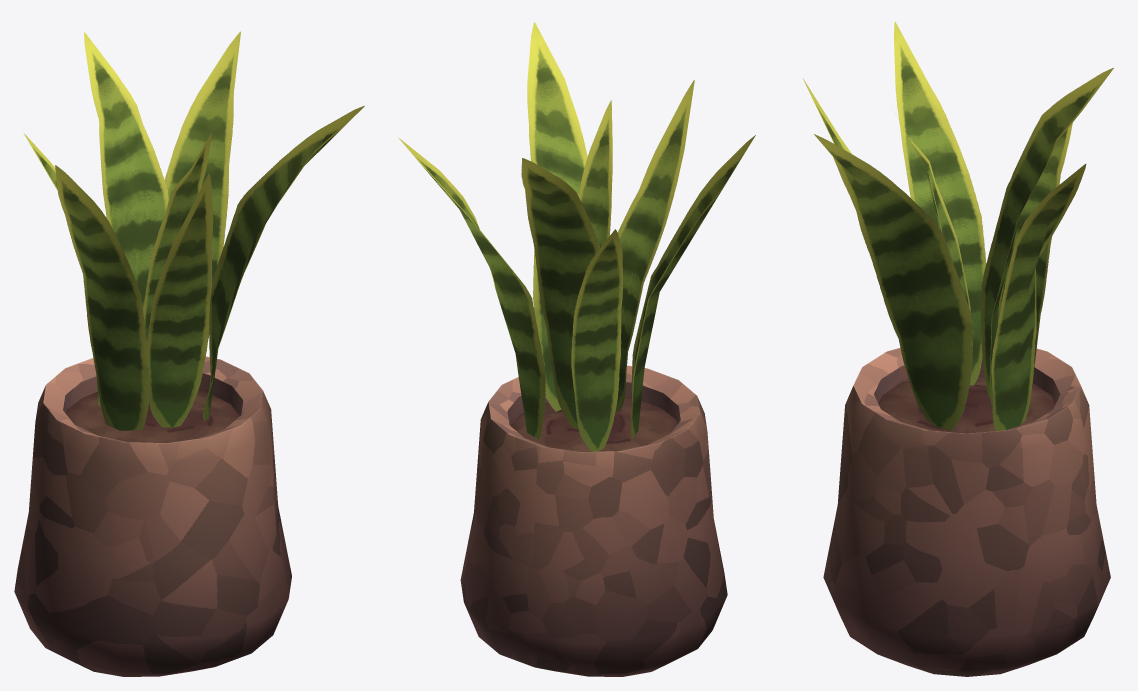
Rendered from MDL_SnakePlant.fbx.
The picture shows the model from 3 angles, left to right: view 1: azimuth 30°, elevation 25°; view 2: azimuth 150°, elevation 25°; view 3: azimuth 270°, elevation 25°; orthographic projection. The views are drawn at different scales.
Visible parts, largest first — view 1: MDL_SnakePlant; view 2: MDL_SnakePlant; view 3: MDL_SnakePlant.
Part boxes in pixels (<box>): MDL_SnakePlant: <box>14,31,364,676</box>; MDL_SnakePlant: <box>398,22,755,676</box>; MDL_SnakePlant: <box>803,21,1113,676</box>.
Size of the model in its own units: 44.52 by 80.67 by 42.24.
